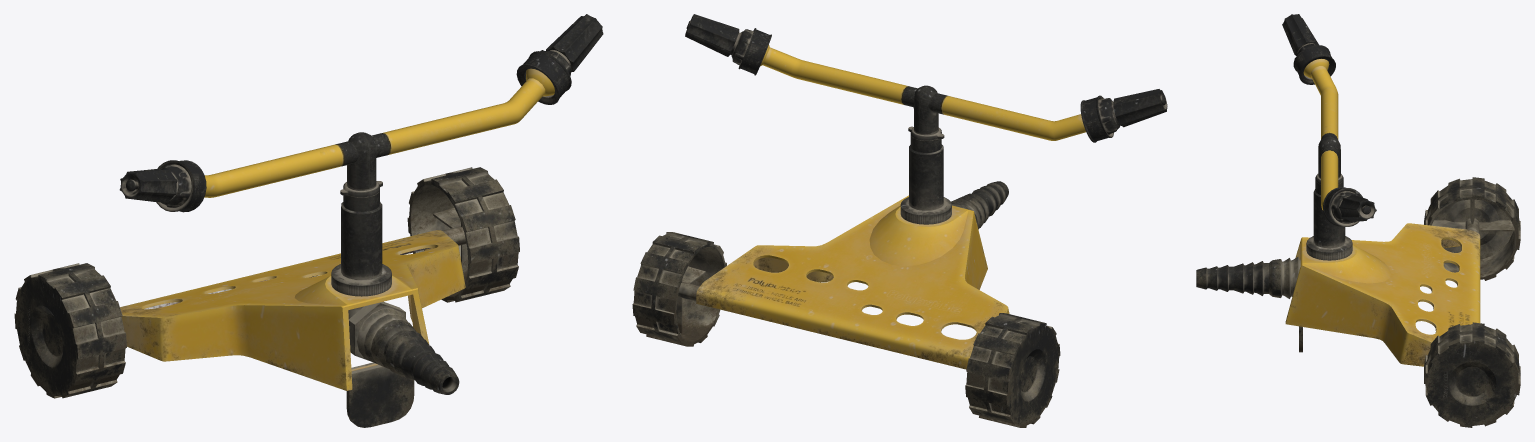
File: garden_sprinkler_01_1k.gltf
The picture shows the model from 3 angles, left to right: view 1: azimuth 30°, elevation 25°; view 2: azimuth 150°, elevation 25°; view 3: azimuth 270°, elevation 25°; orthographic projection. The views are drawn at different scales.
Visible parts, largest first — view 1: garden_sprinkler_01_body_main, garden_sprinkler_01_wheels, garden_sprinkler_01_spinner, garden_sprinkler_01_nozel_left, garden_sprinkler_01_nozel_right; view 2: garden_sprinkler_01_body_main, garden_sprinkler_01_wheels, garden_sprinkler_01_spinner, garden_sprinkler_01_nozel_left, garden_sprinkler_01_nozel_right; view 3: garden_sprinkler_01_body_main, garden_sprinkler_01_wheels, garden_sprinkler_01_spinner, garden_sprinkler_01_nozel_left, garden_sprinkler_01_nozel_right.
Boxes of the visible parts, x1,y1,x2,y2 form: garden_sprinkler_01_body_main: [120, 181, 465, 427]; garden_sprinkler_01_wheels: [14, 167, 519, 398]; garden_sprinkler_01_spinner: [204, 68, 554, 197]; garden_sprinkler_01_nozel_left: [119, 160, 206, 212]; garden_sprinkler_01_nozel_right: [516, 14, 603, 104]; garden_sprinkler_01_body_main: [696, 126, 1009, 369]; garden_sprinkler_01_wheels: [632, 232, 1060, 427]; garden_sprinkler_01_spinner: [760, 45, 1085, 140]; garden_sprinkler_01_nozel_left: [1080, 89, 1167, 142]; garden_sprinkler_01_nozel_right: [685, 14, 771, 75]; garden_sprinkler_01_body_main: [1196, 174, 1480, 366]; garden_sprinkler_01_wheels: [1424, 177, 1520, 427]; garden_sprinkler_01_spinner: [1303, 59, 1340, 210]; garden_sprinkler_01_nozel_left: [1282, 14, 1335, 84]; garden_sprinkler_01_nozel_right: [1323, 187, 1376, 226].
Bounding box in the file's own units: 0.3508 × 0.203 × 0.2491.
Materials: 1 (1 with a texture image).
